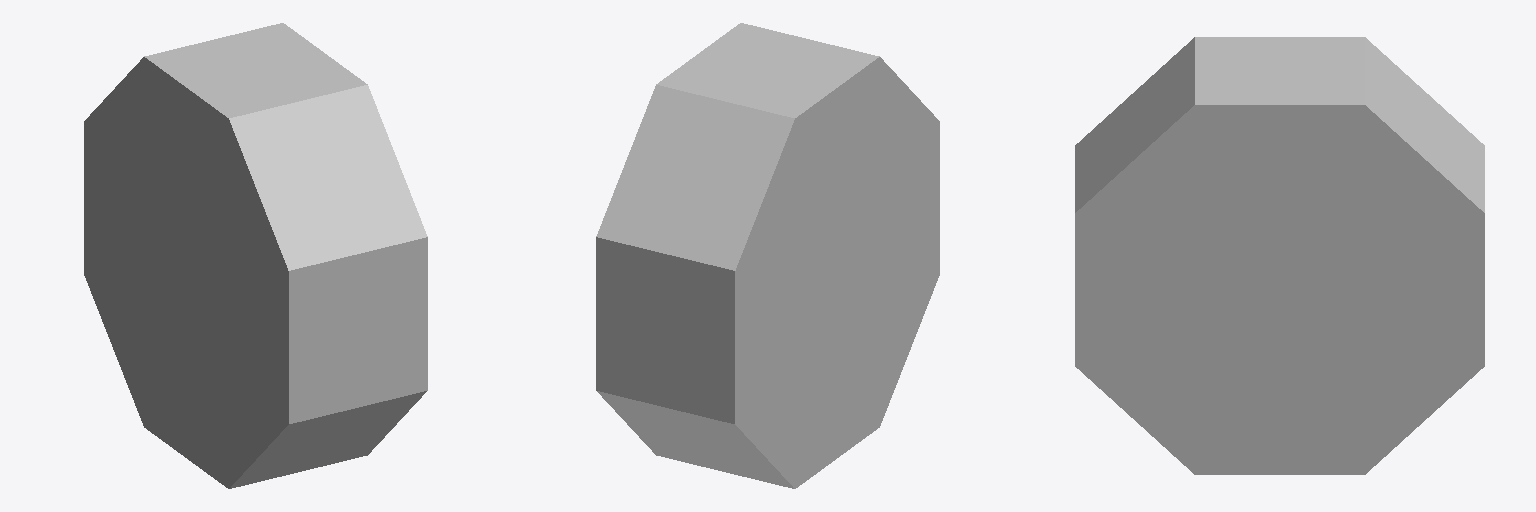
The model's file is cannon_wheel.obj.
The picture shows the model from 3 angles: view 1: azimuth 30°, elevation 25°; view 2: azimuth 150°, elevation 25°; view 3: azimuth 270°, elevation 25°; orthographic projection.
Visible parts, largest first — view 1: cannon_wheel_Cylinder.001; view 2: cannon_wheel_Cylinder.001; view 3: cannon_wheel_Cylinder.001.
Part boxes in pixels (x1,y1,x2,y2): cannon_wheel_Cylinder.001: (84, 23, 427, 488); cannon_wheel_Cylinder.001: (596, 23, 939, 488); cannon_wheel_Cylinder.001: (1075, 37, 1484, 474).
Bounding box in the file's own units: 0.1698 × 0.4323 × 0.4323.